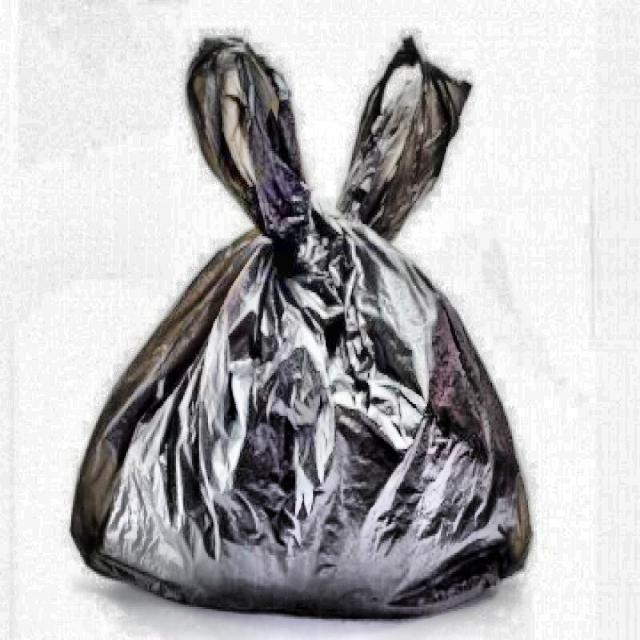Trashbag: (62, 33, 541, 622)
